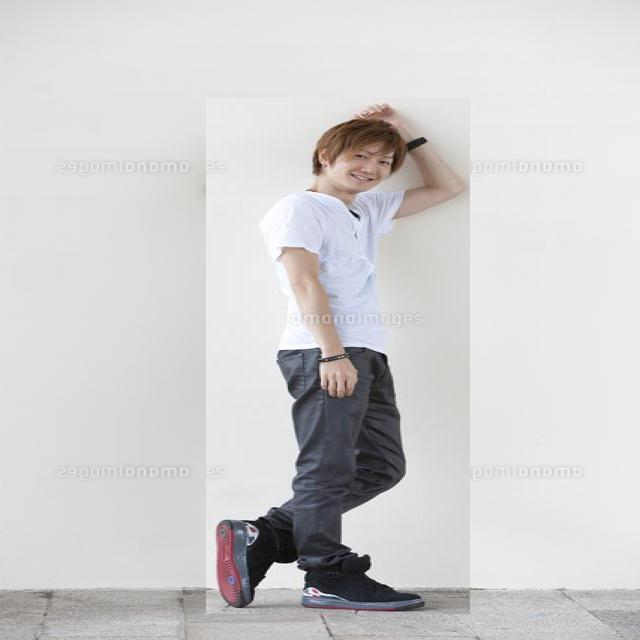direk: (206, 98, 470, 614)
